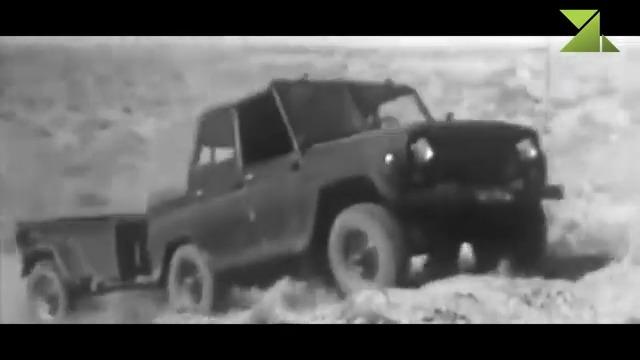MIL_HMMWV: (143, 77, 566, 315)
